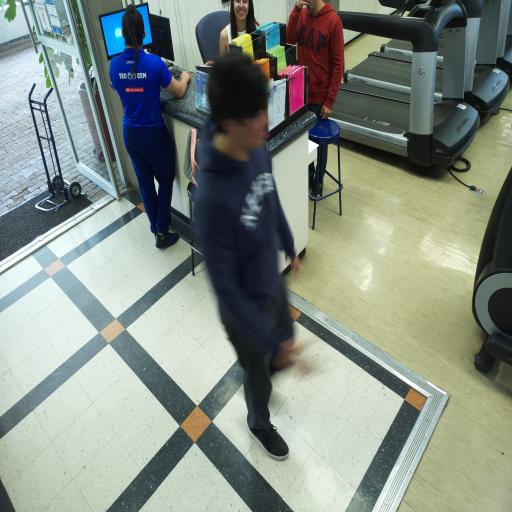person: (196, 53, 300, 459), (110, 5, 190, 248), (287, 0, 344, 119), (220, 0, 258, 55)
